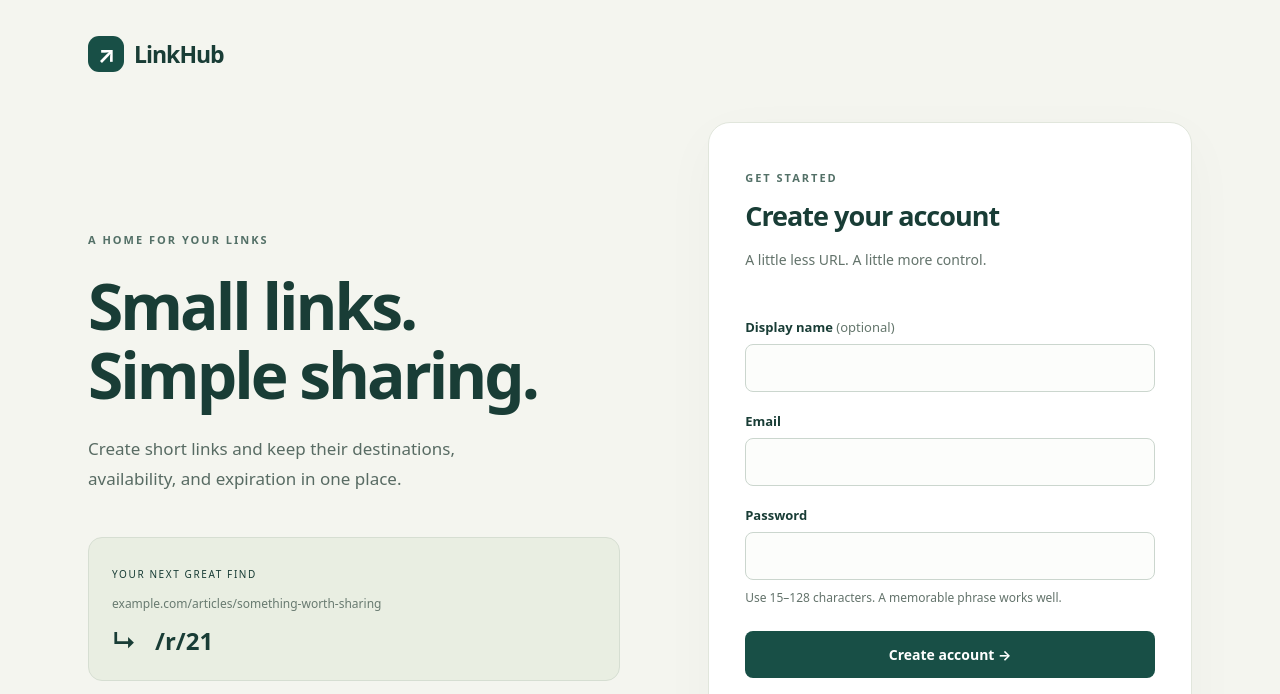
Test case: submits registration, omits blank optional name, and shows normalized email
The image size is (1280, 694).
In the field labelled "Email": (950, 462) [745,438,1155,486], type "Reader@example.com"
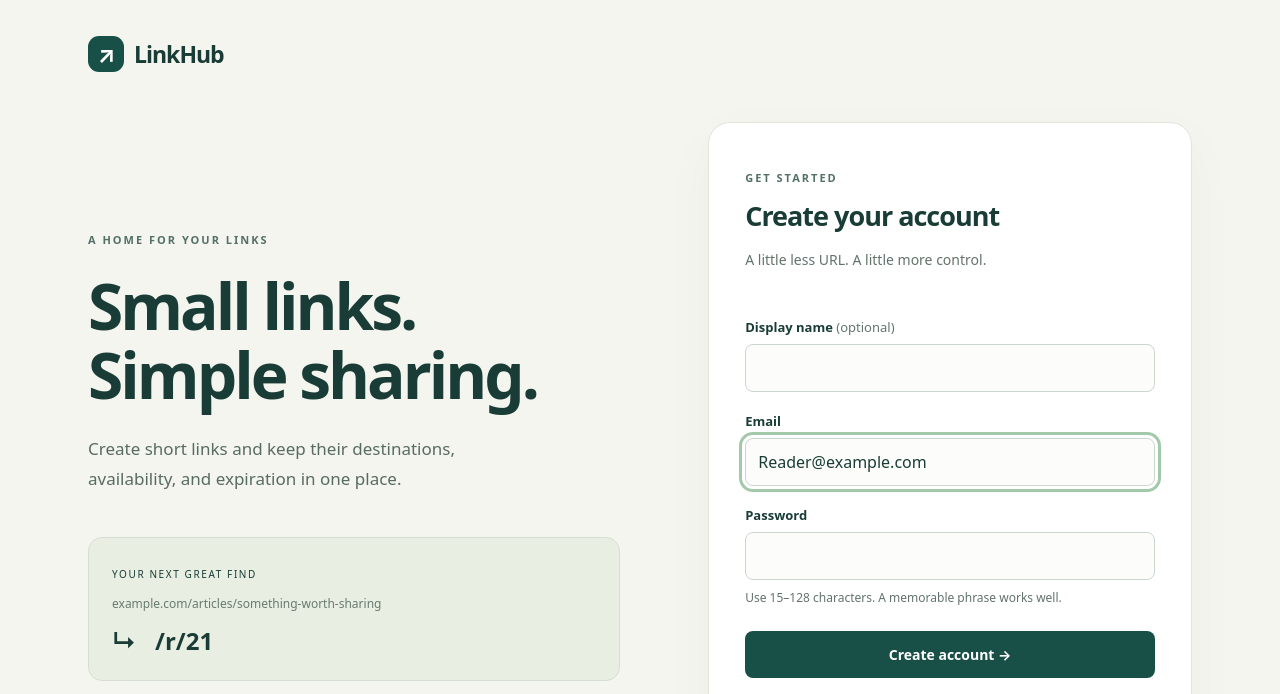
In the password field labelled "Password": (950, 556) [745,532,1155,580], type "a long test phrase 123"
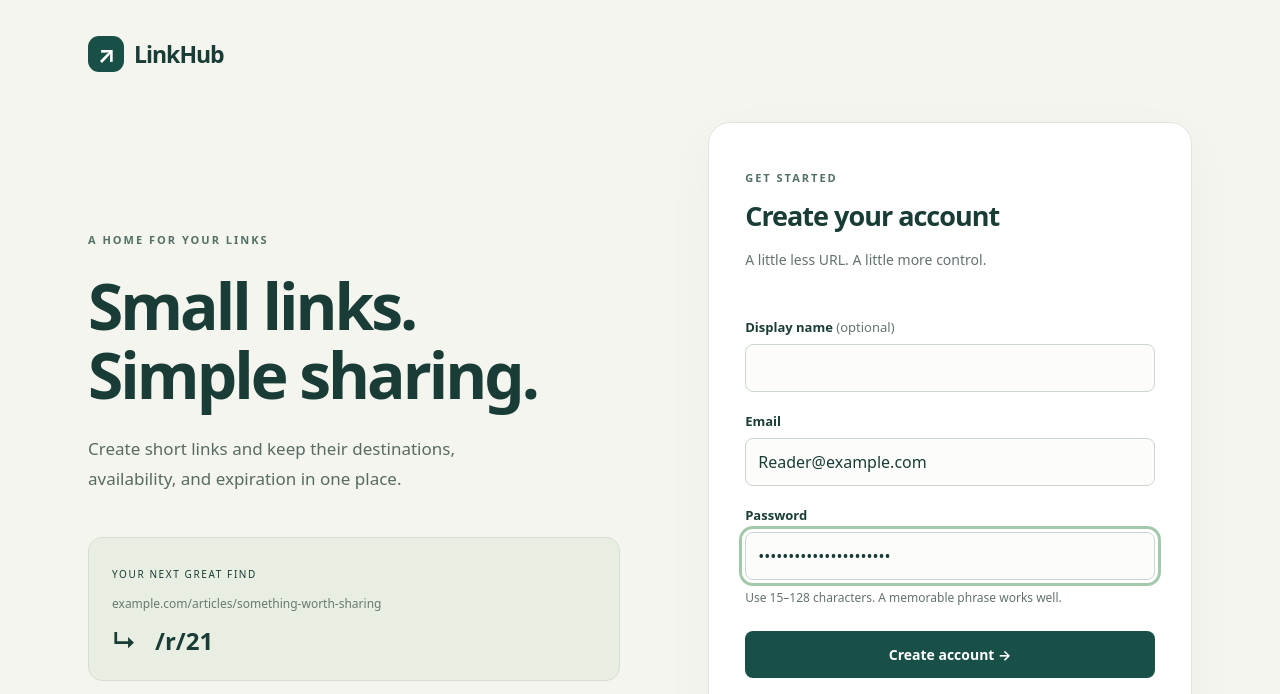
Click the button "Create account →": (950, 654) [745,631,1155,678]
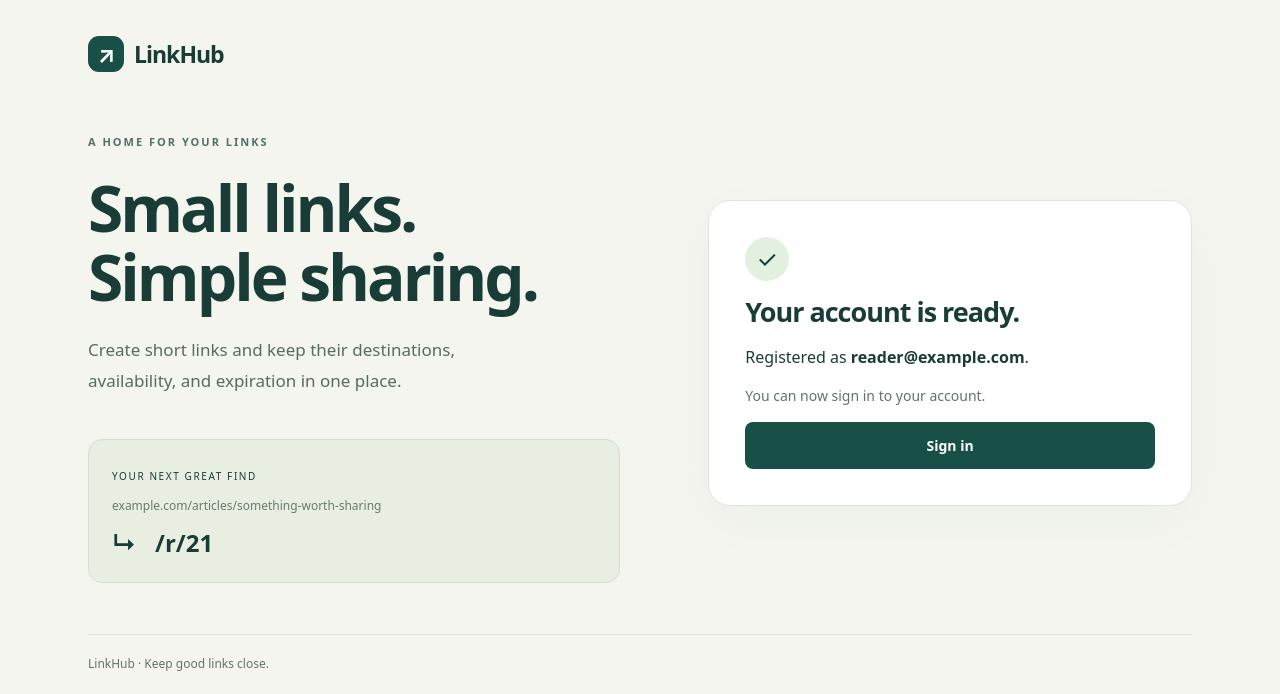
Check: the message shows "reader@example.com", box [851,346,1025,368]
Check: the label labelled "Password" is gone
